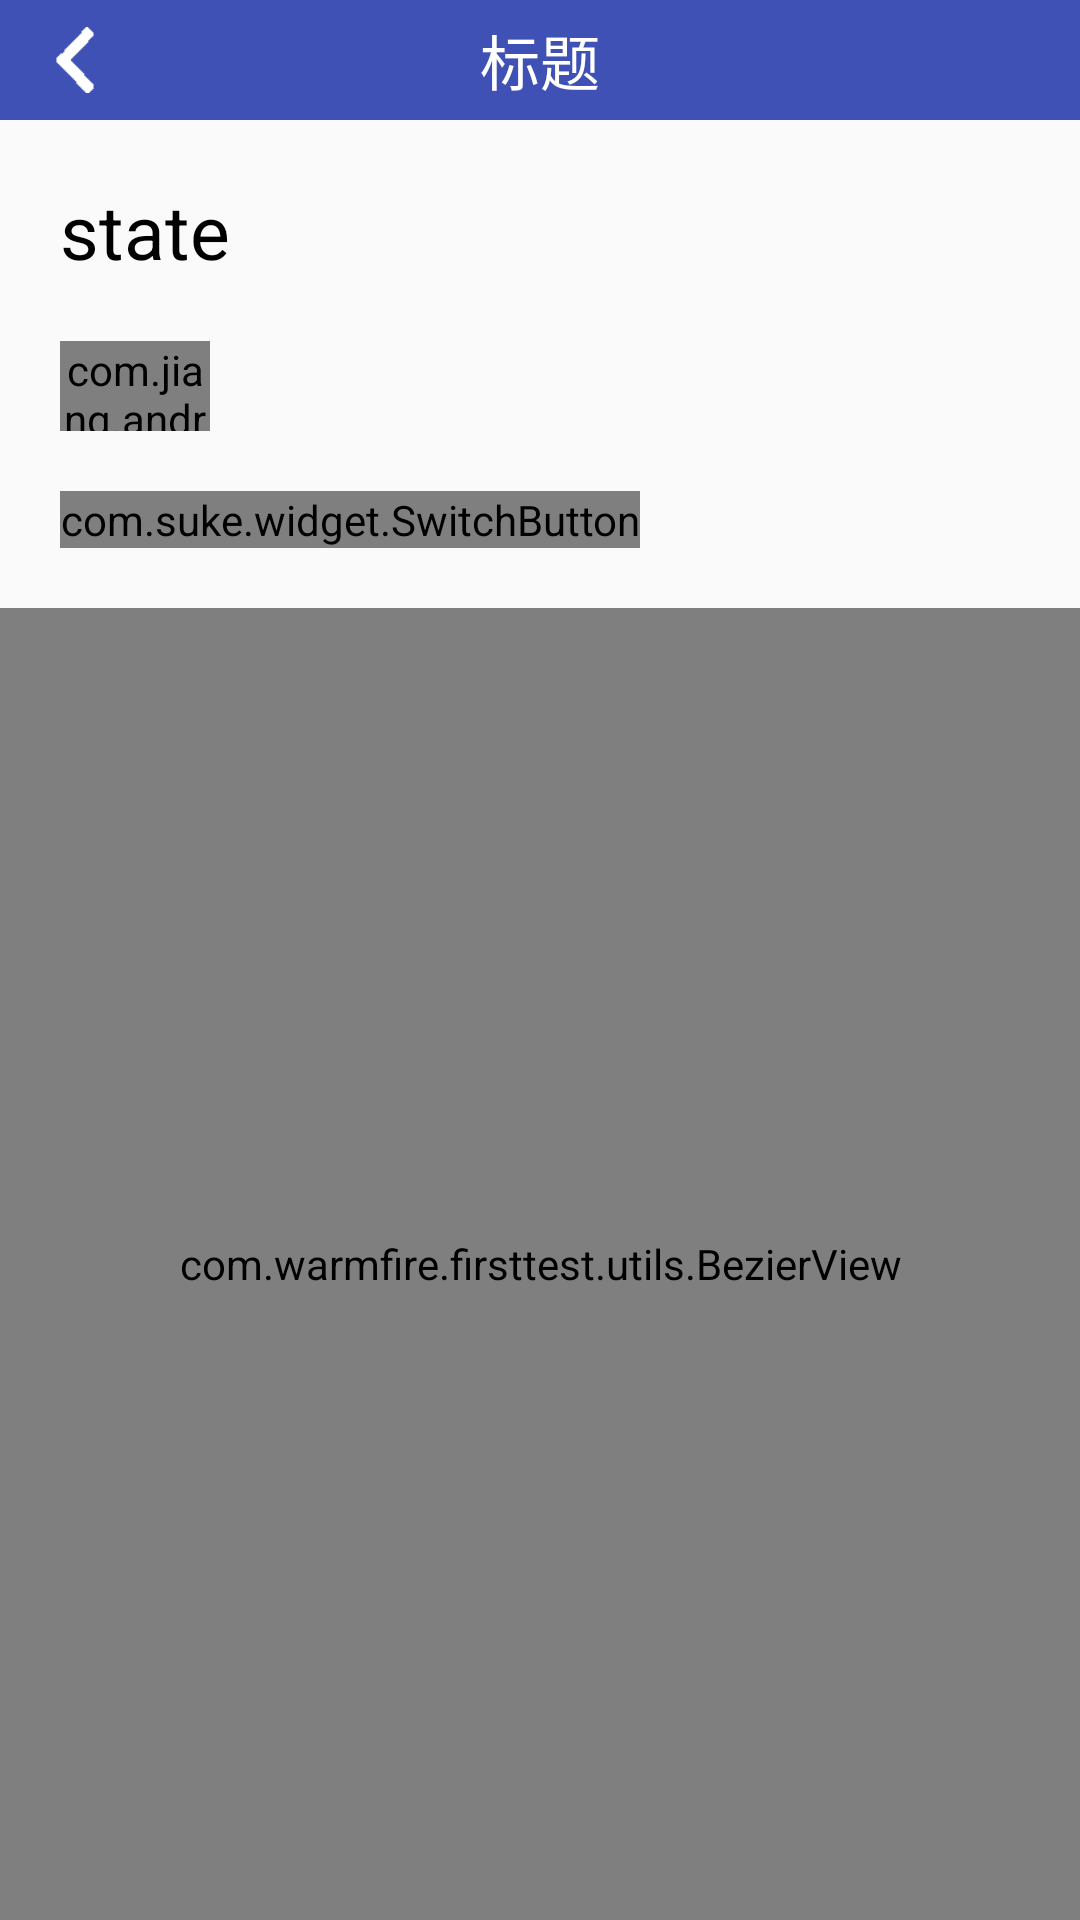

Locate icon controls on the screen. Image size 1080w x 1920h, boxes as box=[x1, y1, x2, y2].
back: box=[56, 27, 94, 93]
